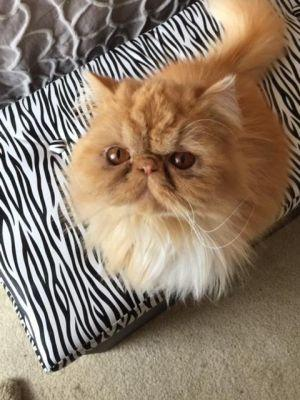persian: (59, 51, 257, 257)
